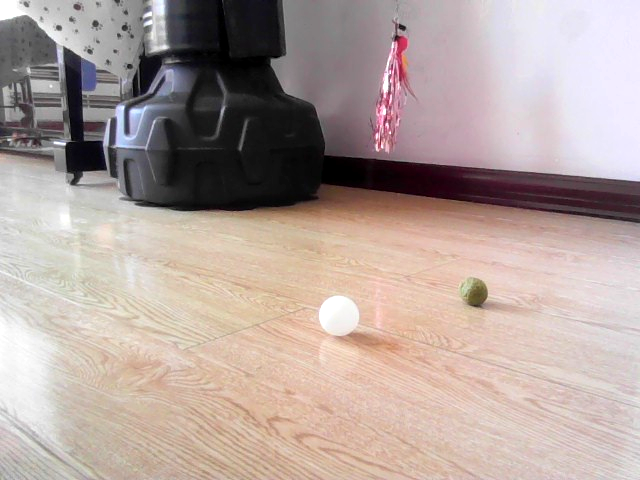ball: (319, 297, 359, 338)
